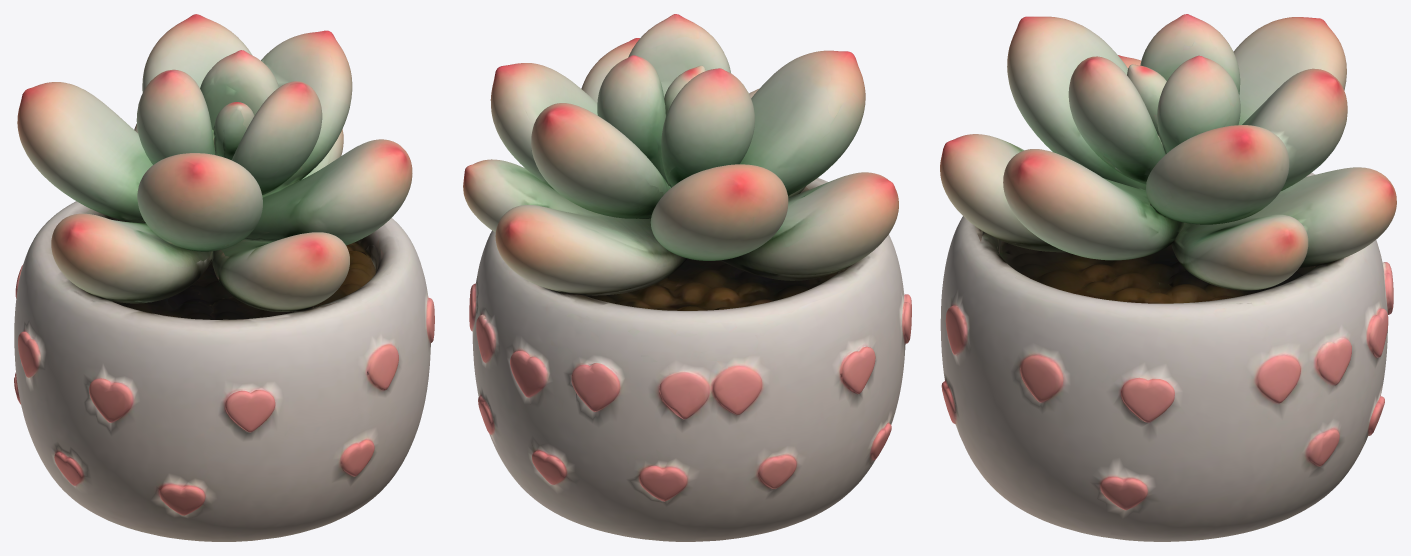
The picture shows the model from 3 angles, left to right: view 1: azimuth 30°, elevation 25°; view 2: azimuth 150°, elevation 25°; view 3: azimuth 270°, elevation 25°; orthographic projection. The views are drawn at different scales.
Visible parts, largest first — view 1: node_0; view 2: node_0; view 3: node_0.
Boxes of the visible parts, x1,y1,x2,y2 form: node_0: (14,14,434,541); node_0: (463,14,911,541); node_0: (940,14,1396,541).
Bounding box in the file's own units: 0.9343 × 1.01 × 0.9372.
1 material, 1 textured.
